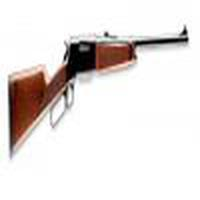gun: (6, 33, 190, 149)
